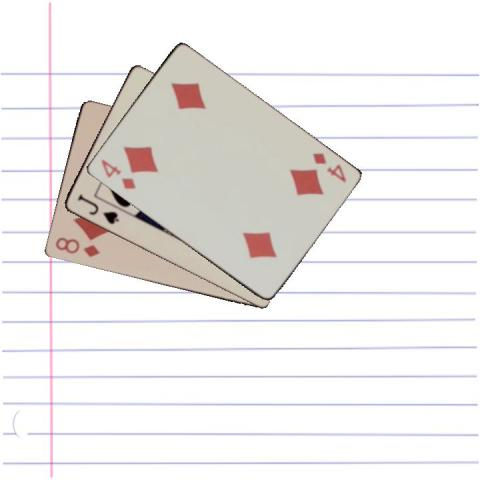4d: (309, 149, 348, 185), (97, 156, 137, 191)
8d: (52, 234, 101, 259)
Js: (74, 191, 120, 226)
